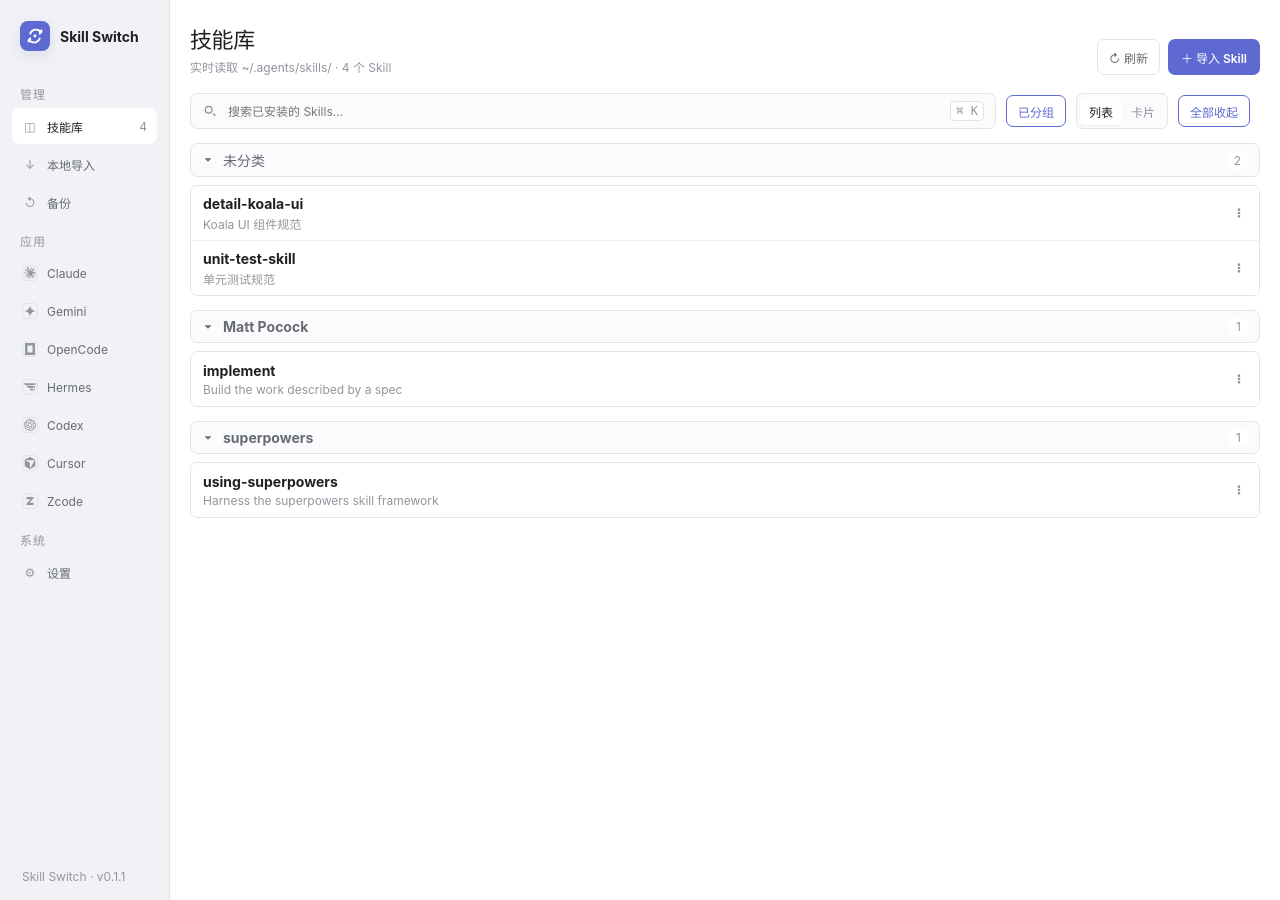
it: explains conflicting import decisions inline
What coordinates should you click on to do the following:
click the button "↓ 本地导入"
I would click on:
 (84, 164)
Its box is [12,146,157,182].
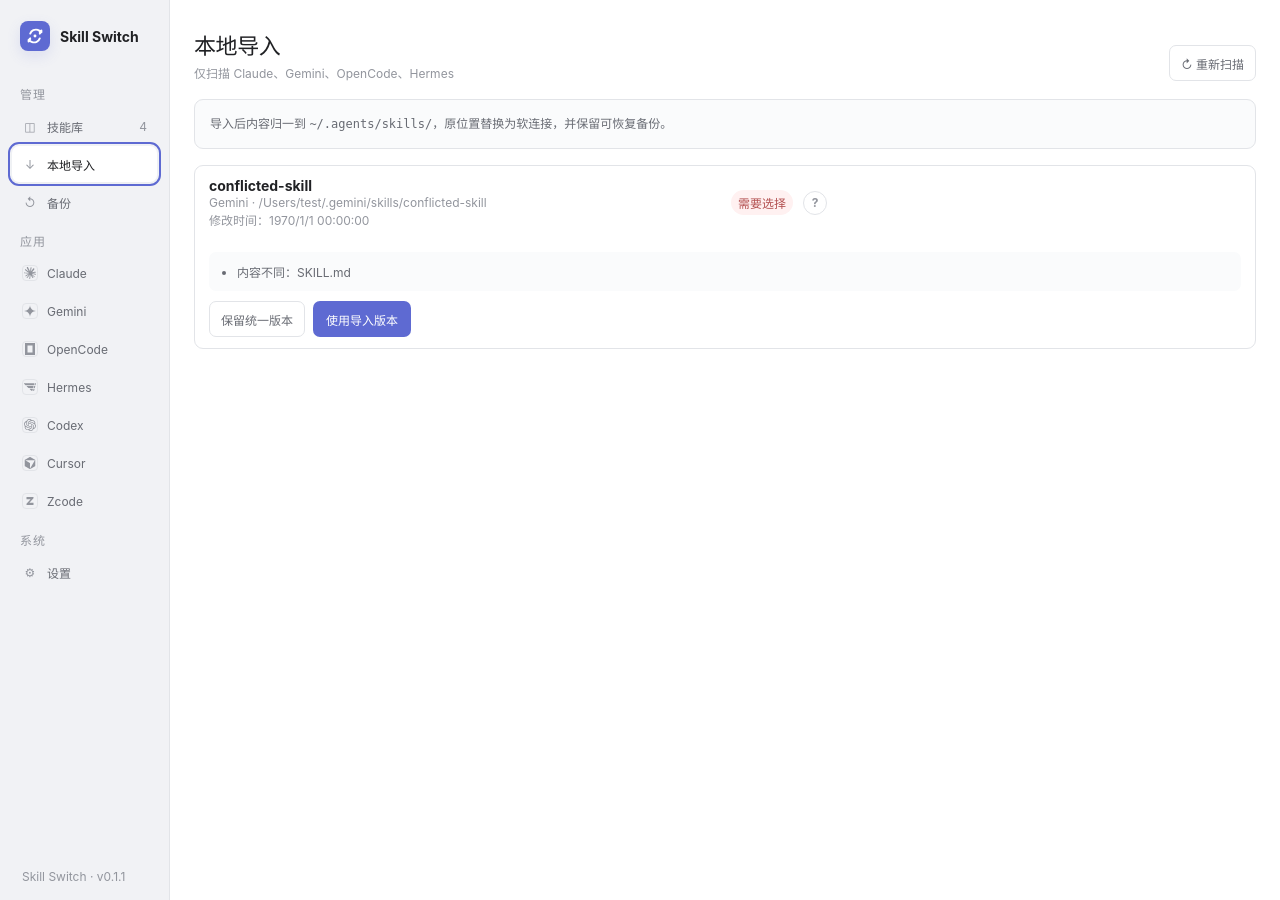
What coordinates should you click on to do the following:
click the heading named "查看选项区别"
I would click on:
 (815, 202)
Its box is [799,186,831,218].
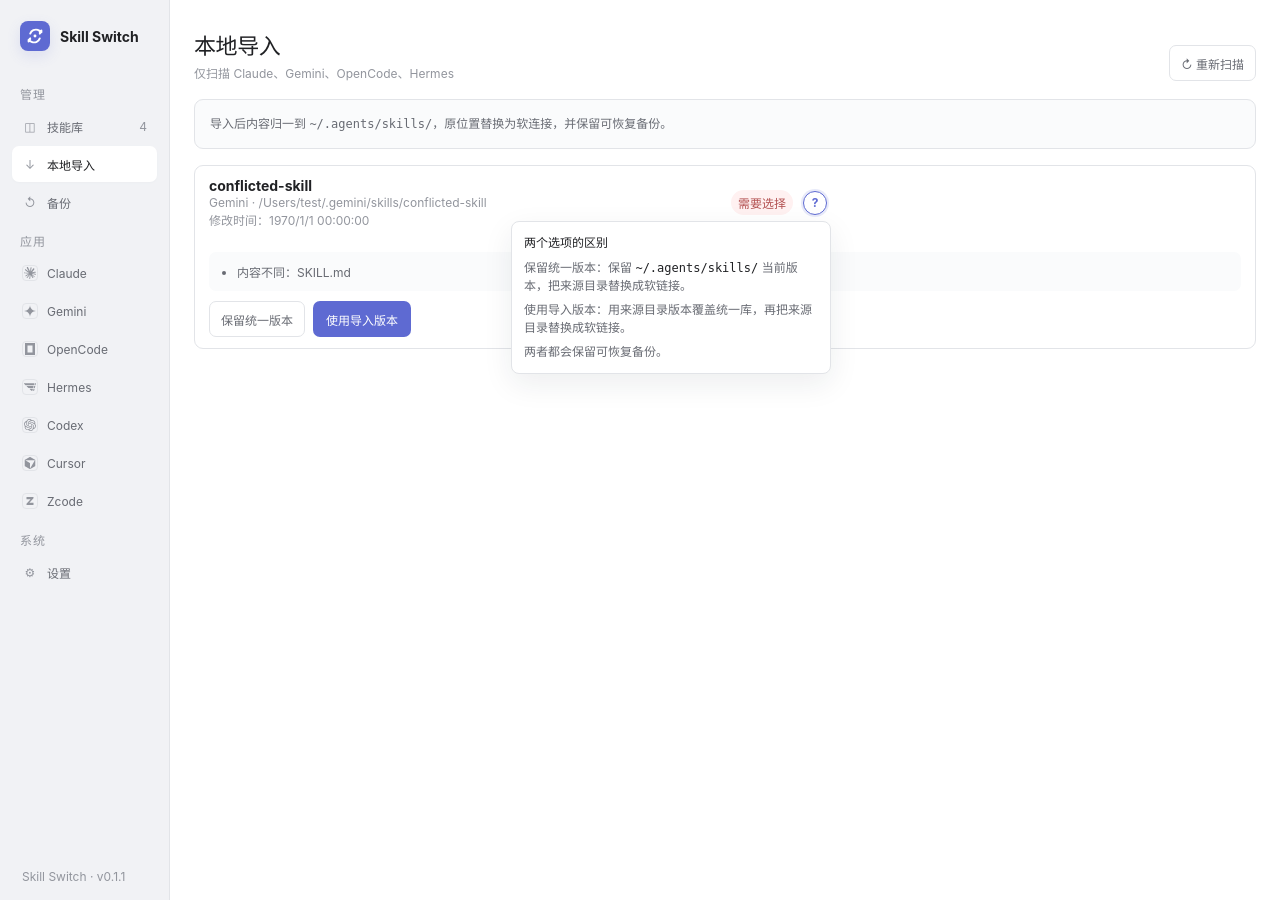
Result: the text "两个选项的区别" is shown at [524,234,608,250]
Result: the text "保留统一版本" is shown at [524,260,596,274]
Result: the text "保留统一版本：保留 ~/.agents/skills/ 当前版本，把来源目录替换成软链接。" is shown at [524,258,818,294]
